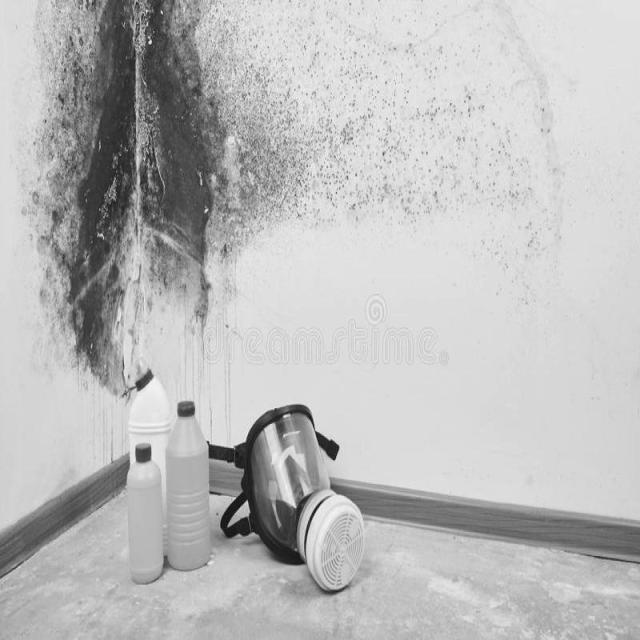stain marks: (1, 0, 590, 390)
